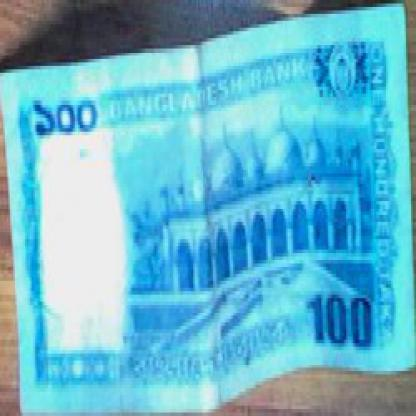one hundred taka: (305, 291, 376, 354), (26, 90, 104, 139)
